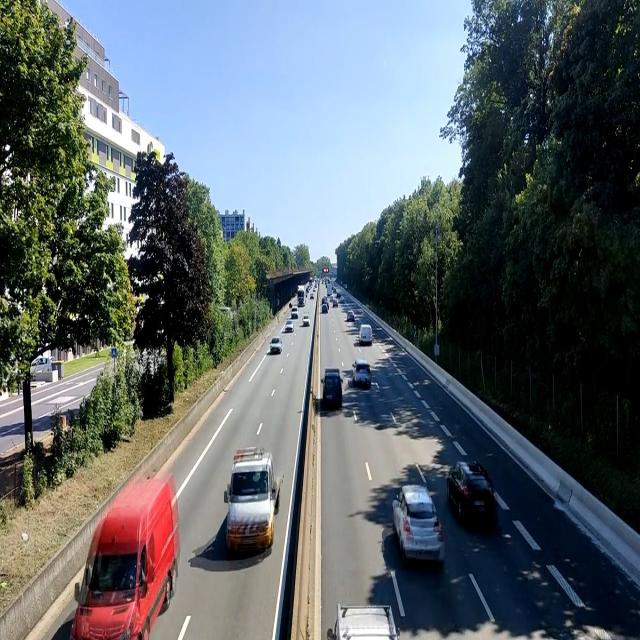Car: (442, 450, 501, 532), (389, 481, 444, 564), (317, 359, 344, 419), (348, 354, 376, 396), (358, 322, 374, 348), (268, 333, 282, 354), (344, 305, 357, 322), (284, 316, 295, 336), (300, 311, 312, 328), (320, 296, 330, 315), (290, 305, 300, 320), (332, 294, 340, 310)
Truck: (68, 466, 182, 640), (217, 438, 284, 562), (296, 284, 308, 312)
